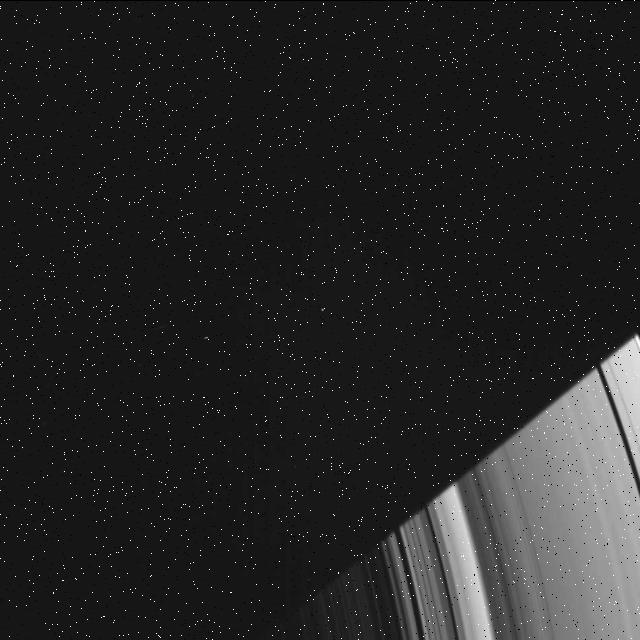Saturn: (240, 328, 640, 640)
